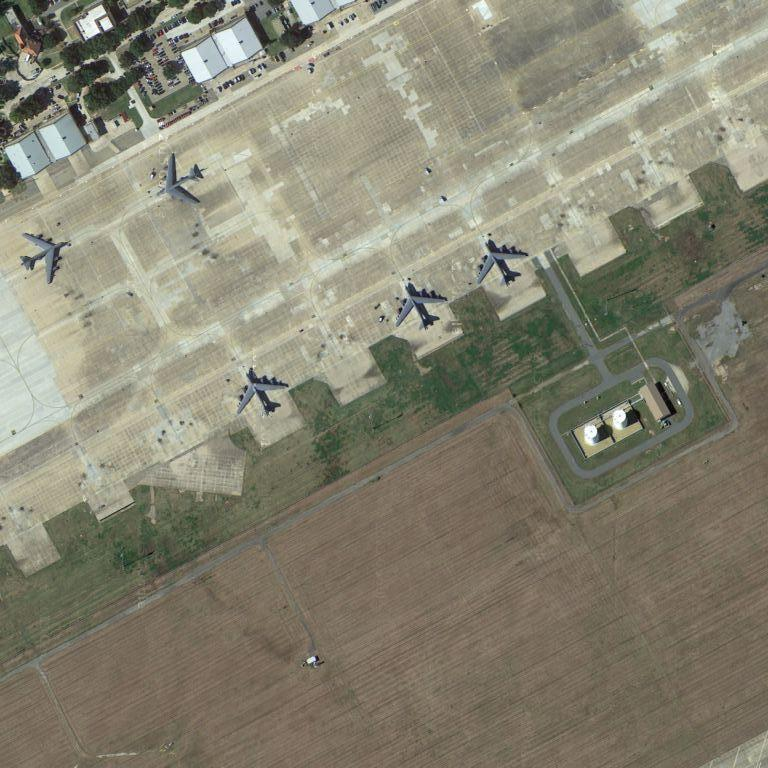B-52: (473, 237, 532, 292), (18, 229, 71, 287), (153, 153, 207, 207), (234, 368, 289, 420), (394, 281, 449, 332)
